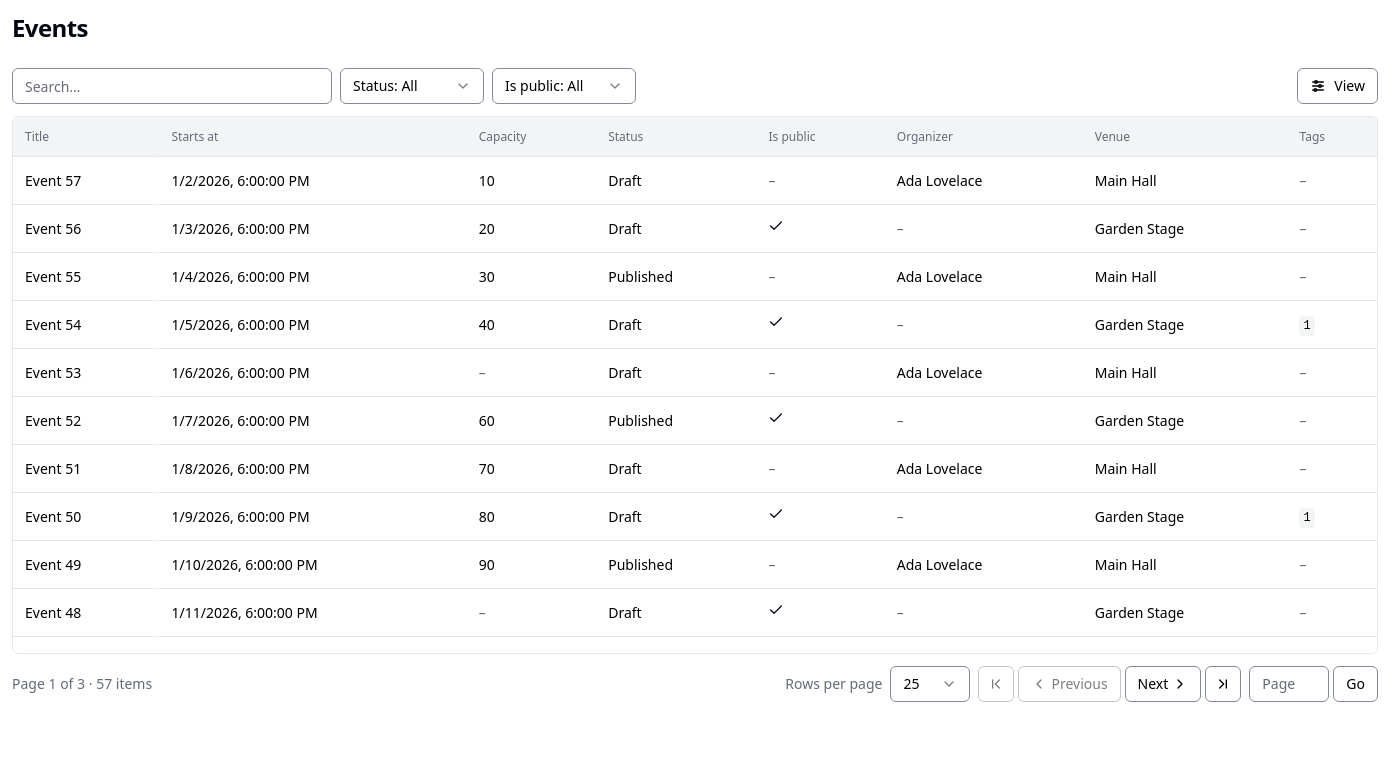
Test: ResourceTable target usage (full stack) › recovers from an out-of-range page via the D5 404 clamp
Click the button "Next".
click(1163, 684)  # box [1125, 666, 1201, 702]
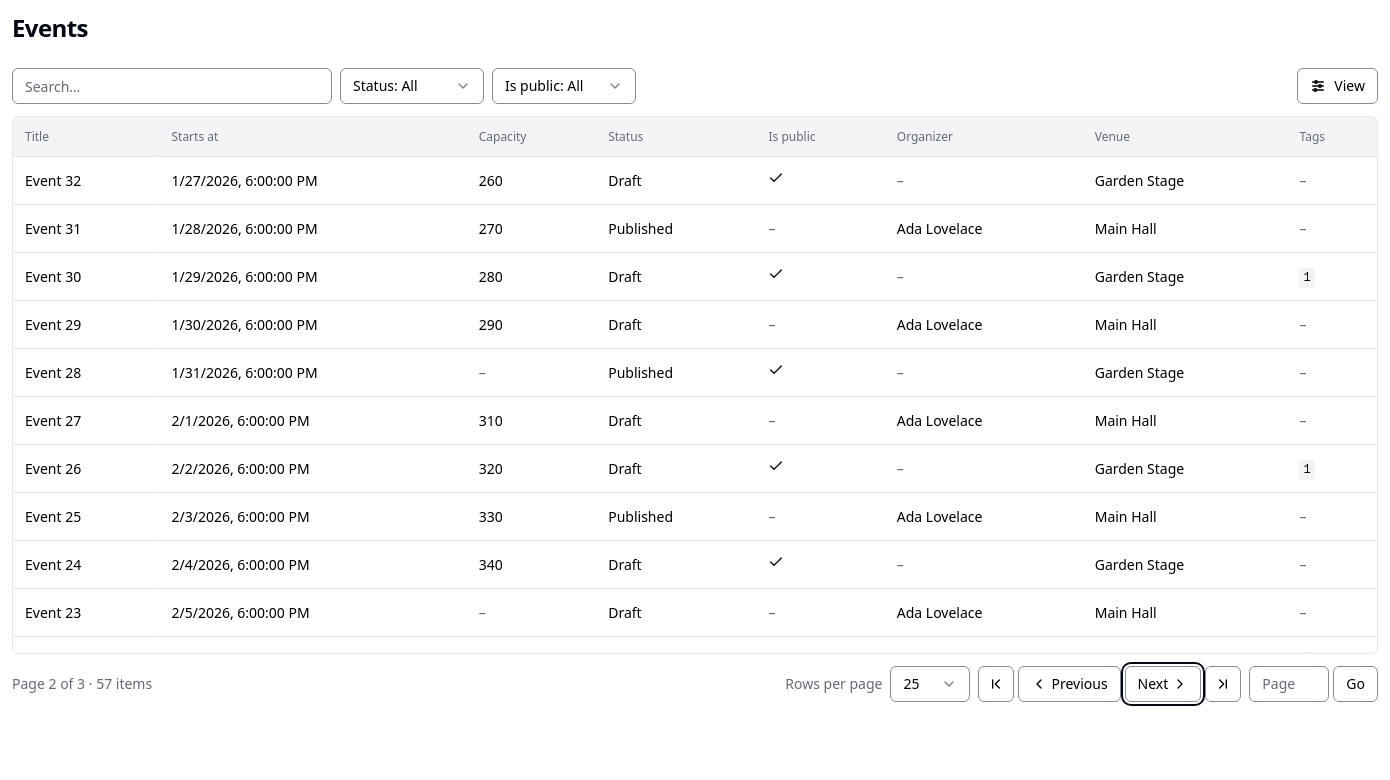
Check: the text "Page 2 of 3 · 57 items" is shown, box [12, 674, 152, 694]
Click the button "Next".
click(1163, 684)  # box [1125, 666, 1201, 702]
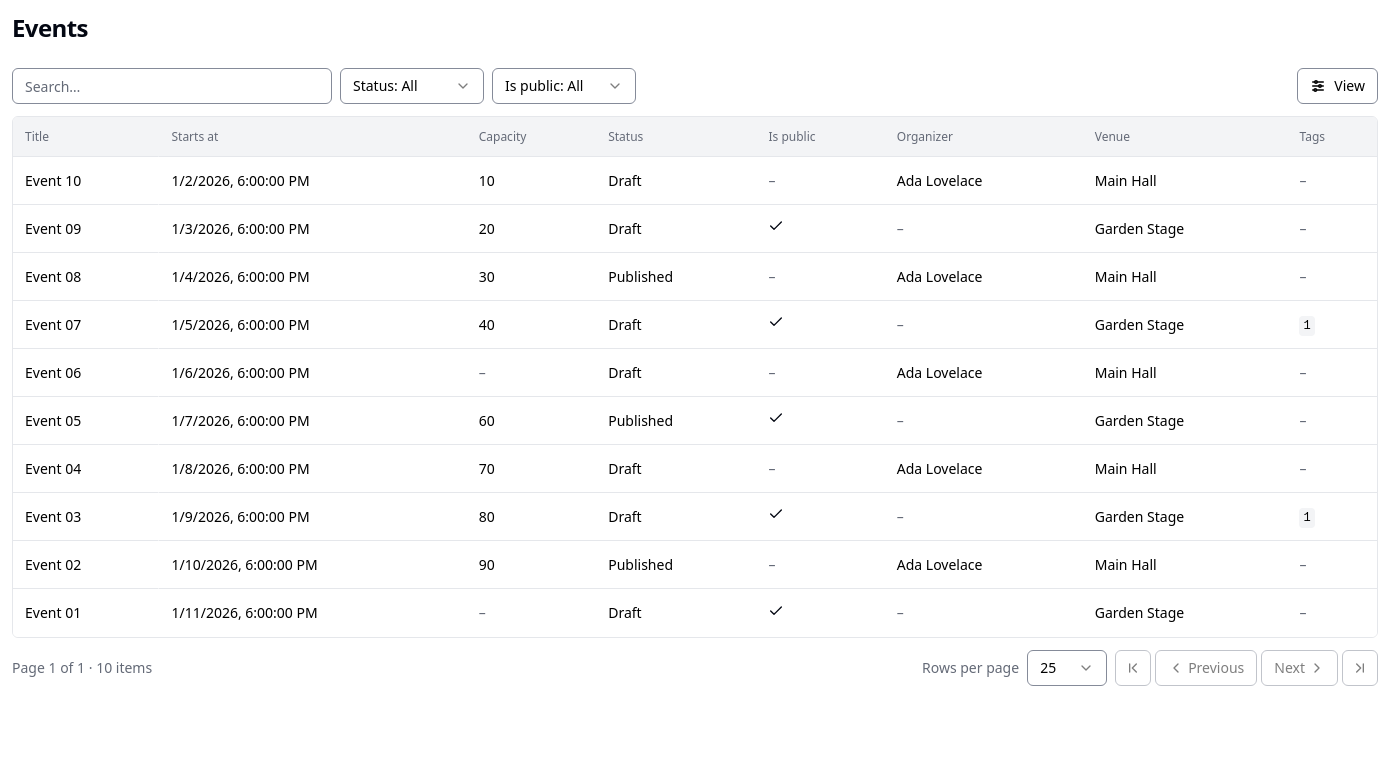
Check: the text "Page 1 of 1 · 10 items" is shown, box [12, 658, 152, 678]
